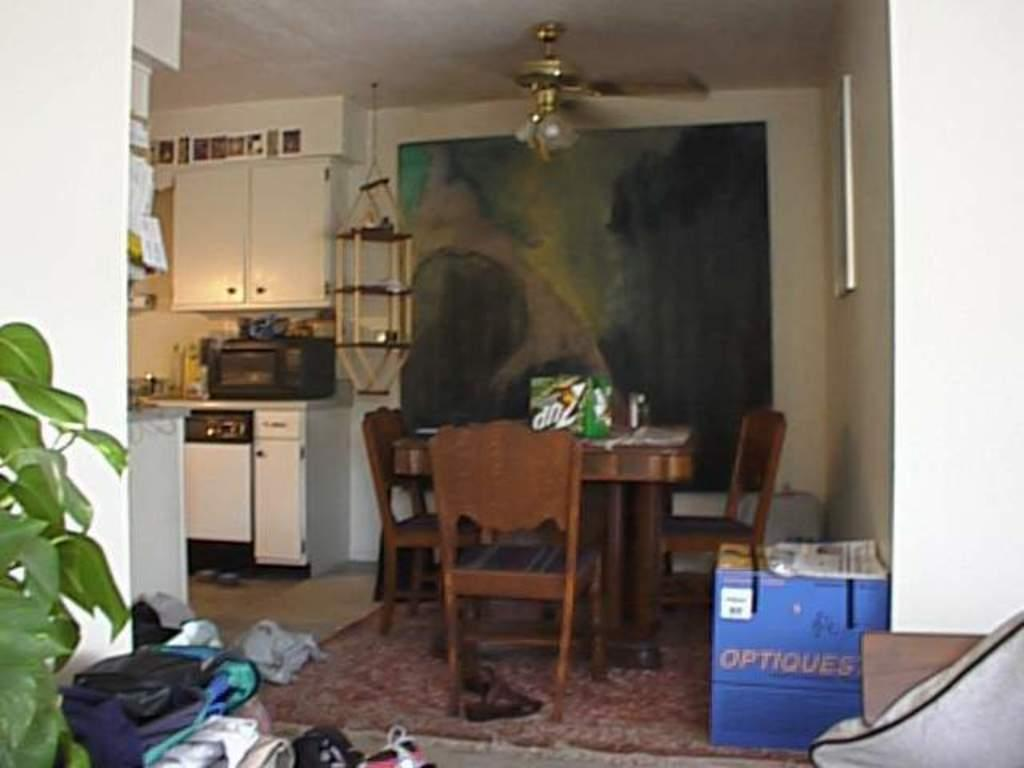Chair: (366, 400, 624, 718), (358, 403, 470, 630), (659, 408, 787, 603)
